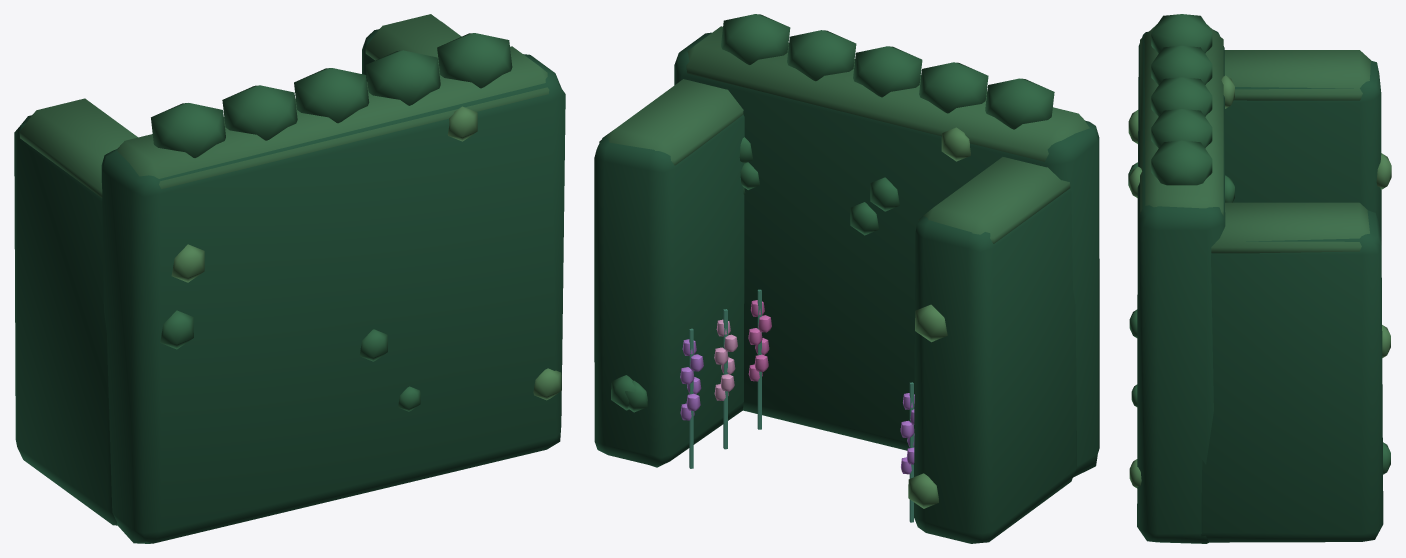
The model's file is alcove_niche.glb.
3 renders of one model, left to right at view 1: azimuth 30°, elevation 25°; view 2: azimuth 150°, elevation 25°; view 3: azimuth 270°, elevation 25°, orthographic. The views are drawn at different scales.
Parts seen in each view (by area): view 1: alcove_niche; view 2: alcove_niche; view 3: alcove_niche.
Boxes of the visible parts, x1=… form: alcove_niche: x1=14, y1=14, x2=565, y2=543; alcove_niche: x1=594, y1=14, x2=1099, y2=543; alcove_niche: x1=1128, y1=14, x2=1391, y2=543.
Size of what is drawn, in the model's own units: 3.63 by 3.36 by 2.11.
